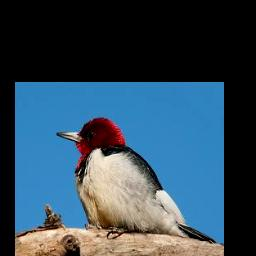Woodpecker: (56, 117, 217, 243)
